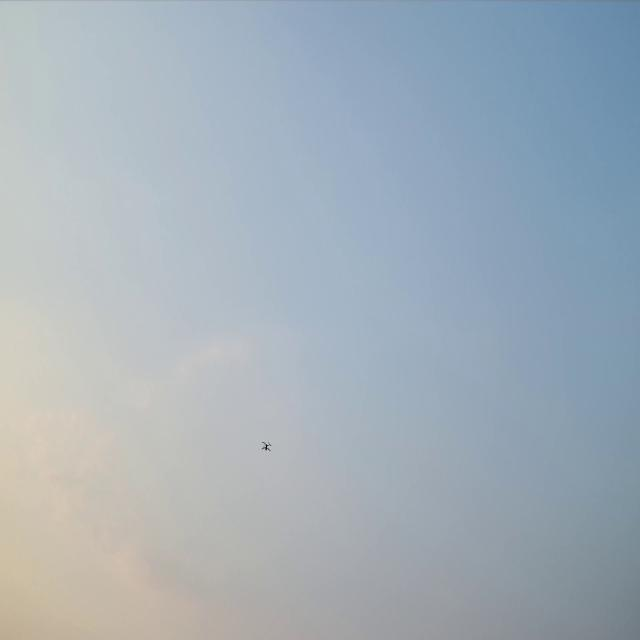UAV: (263, 443, 270, 450)
